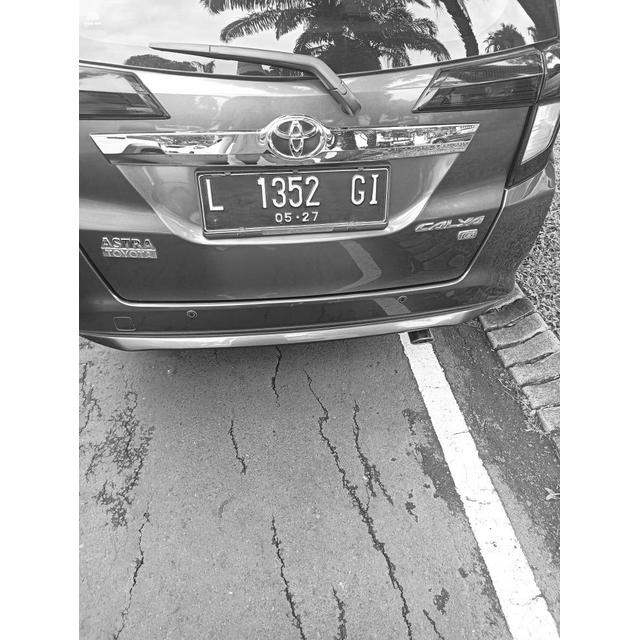license: (202, 172, 382, 222)
